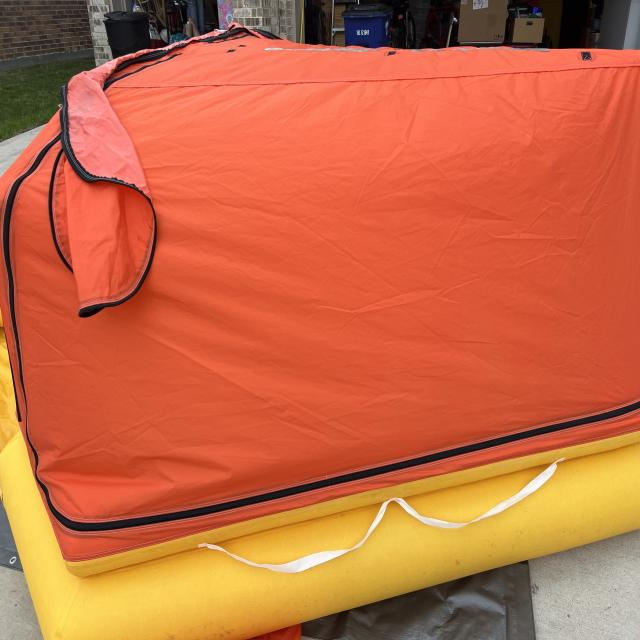Multi-person_life_raft: (1, 18, 640, 639)
